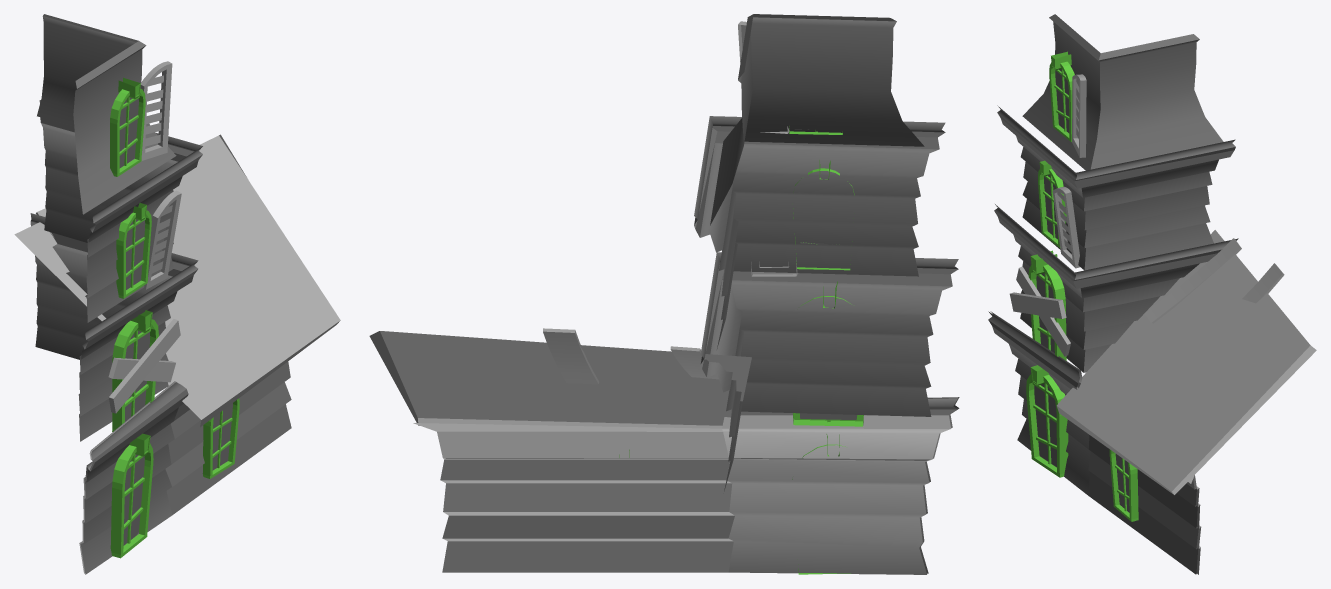
Rendered from part 2 house.fbx.
The picture shows the model from 3 angles, left to right: view 1: azimuth 30°, elevation 25°; view 2: azimuth 150°, elevation 25°; view 3: azimuth 270°, elevation 25°; orthographic projection. The views are drawn at different scales.
Visible parts, largest first — view 1: polySurface177, low_house1, top_of_house1, mid_low_house1, topmidlle1, window10, window7, planks2, window8, window9, window_shutter6, window13 (+2 smaller); view 2: polySurface178, mid_low_house1, topmidlle1, polySurface177, top_of_house1, shingle25, low_house1, window9, shingle26; view 3: polySurface177, topmidlle1, top_of_house1, mid_low_house1, low_house1, window10, planks2, window9, window7, shingle26, window13, window_shutter7 (+4 smaller).
Boxes of the visible parts, x1,y1,x2,y2 form: polySurface177: [14, 134, 340, 427]; low_house1: [80, 361, 291, 574]; top_of_house1: [37, 14, 176, 214]; mid_low_house1: [30, 213, 198, 441]; topmidlle1: [39, 100, 202, 322]; window10: [110, 433, 153, 558]; window7: [110, 77, 145, 176]; planks2: [108, 319, 180, 413]; window8: [116, 203, 151, 298]; window9: [112, 310, 158, 431]; window_shutter6: [140, 61, 172, 160]; window13: [202, 398, 239, 478]; polySurface178: [413, 398, 957, 574]; mid_low_house1: [700, 252, 958, 491]; topmidlle1: [694, 116, 945, 348]; polySurface177: [369, 331, 751, 428]; top_of_house1: [710, 14, 924, 225]; shingle25: [543, 328, 599, 384]; low_house1: [445, 397, 959, 573]; window9: [793, 281, 863, 426]; shingle26: [670, 346, 718, 379]; polySurface177: [1056, 230, 1316, 494]; topmidlle1: [997, 105, 1235, 270]; top_of_house1: [1022, 14, 1223, 170]; mid_low_house1: [994, 204, 1238, 372]; low_house1: [988, 311, 1198, 574]; window10: [1026, 365, 1068, 477]; planks2: [1009, 266, 1070, 356]; window9: [1028, 250, 1066, 360]; window7: [1049, 51, 1074, 141]; shingle26: [1144, 238, 1241, 323]; window13: [1109, 449, 1138, 521]; window_shutter7: [1052, 186, 1079, 268].
Bounding box in the file's own units: 9.04 × 11.65 × 8.06.
